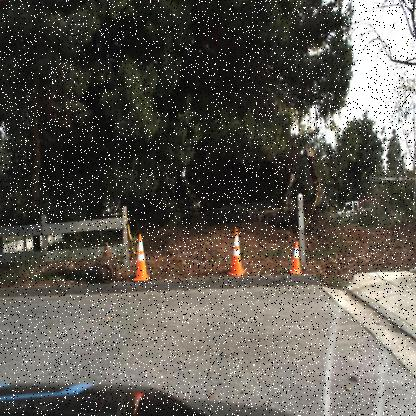truck: (333, 198, 380, 224)
